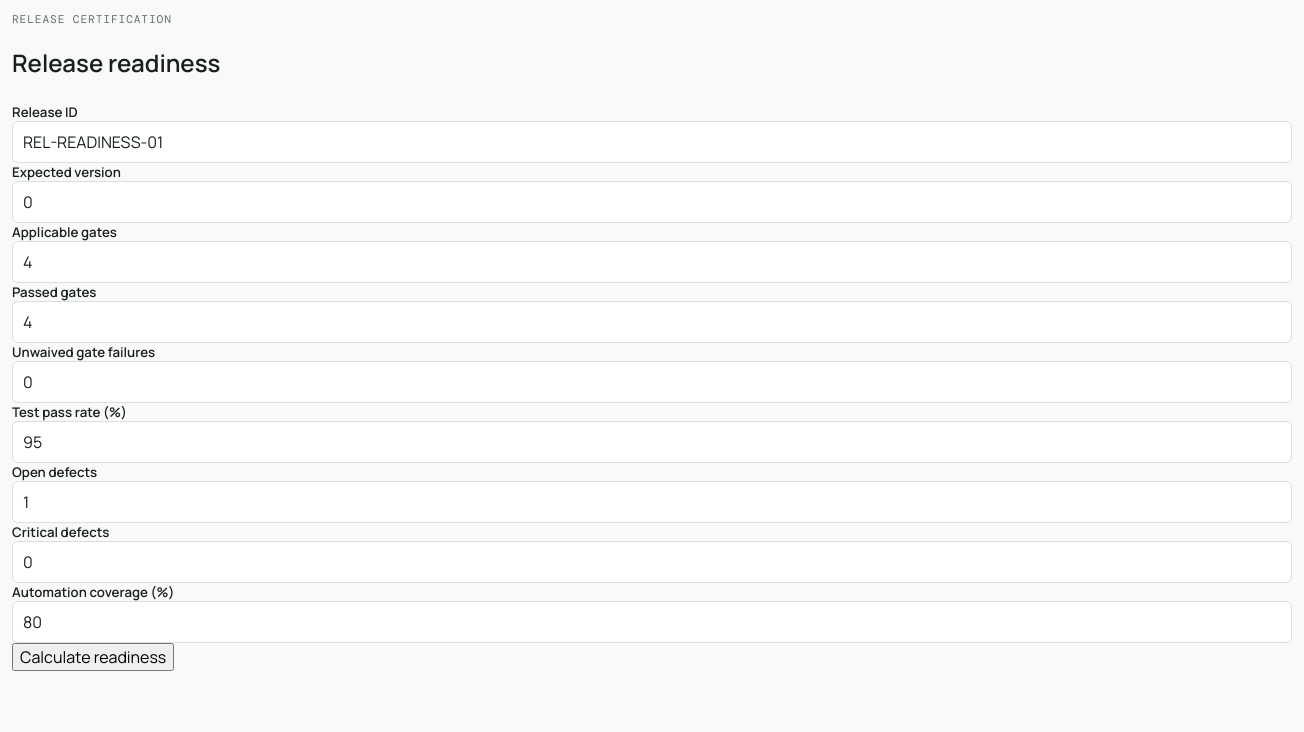
Scenario: ReadinessPanel › requires a release ID before requesting readiness
Clear the field labelled "Release ID". click: (652, 142)
box: [12,121,1292,163]
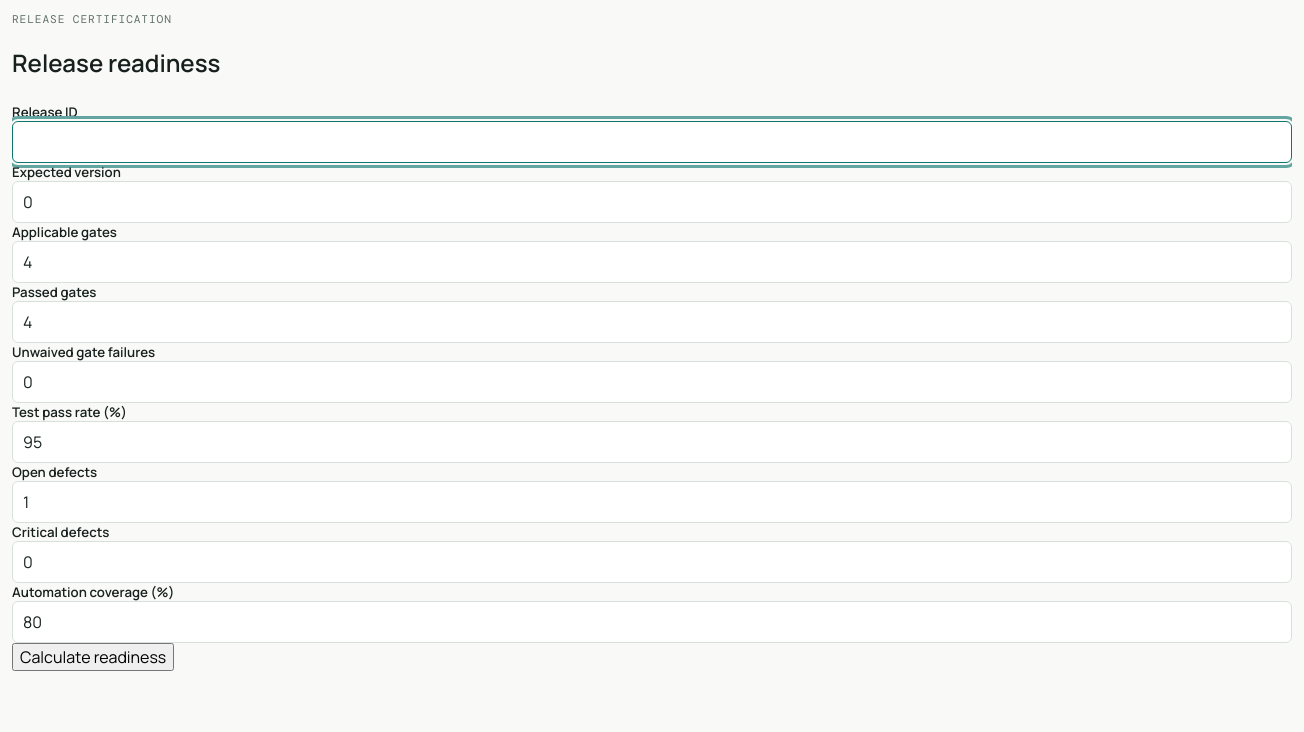
Click the button "Calculate readiness". click: click(93, 657)
box: [12,643,174,671]
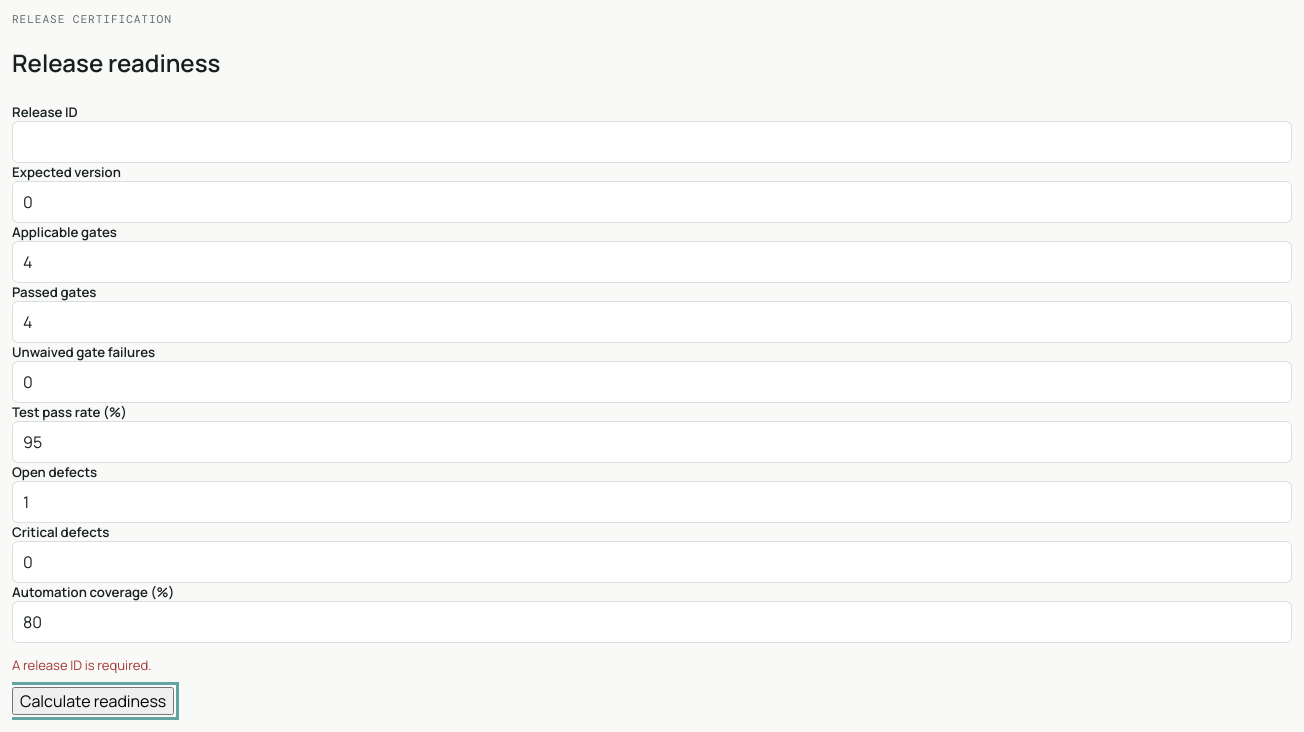
Now the message reads "A release ID is required.", box [12,656,152,674]
